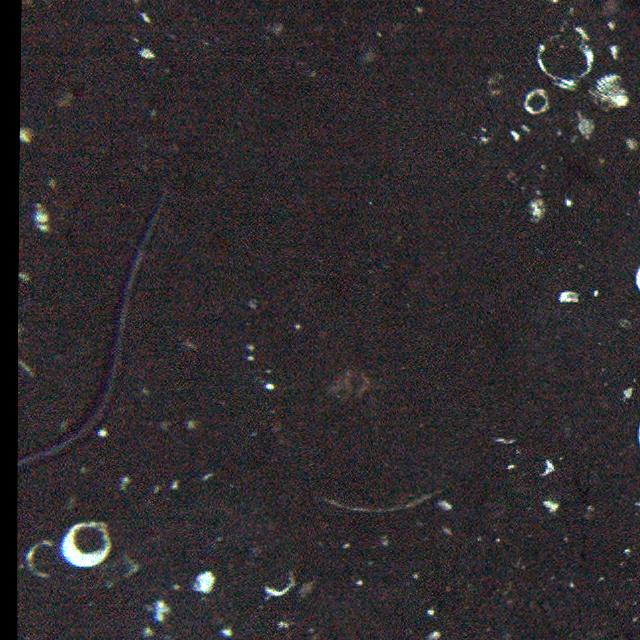eel: (24, 194, 167, 482)
